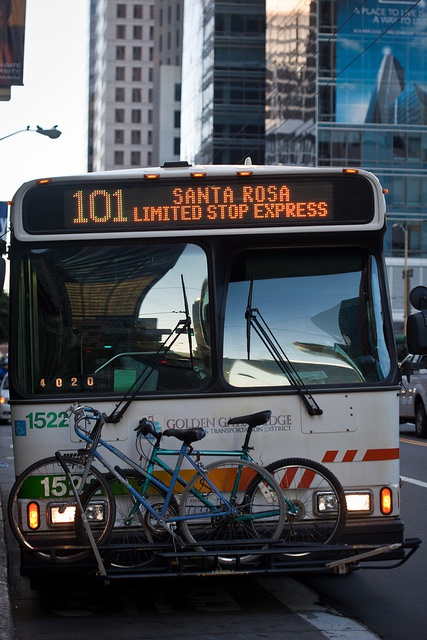non-vehicle: (4, 409, 286, 570), (100, 407, 346, 571)
